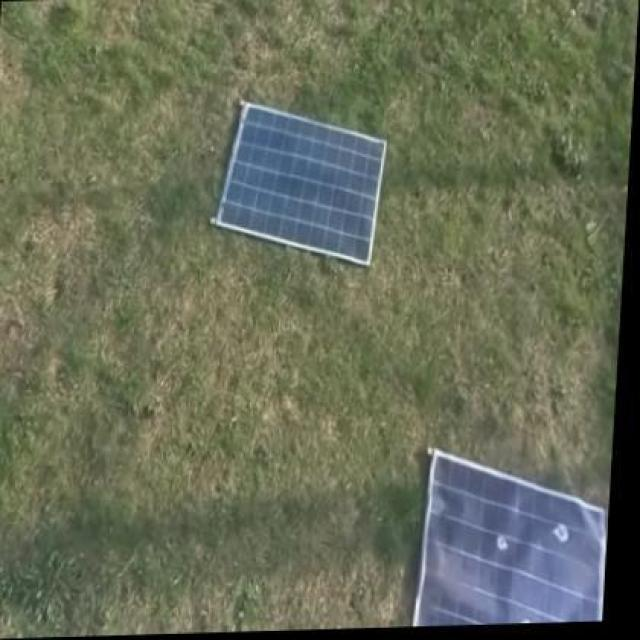soiled: (411, 450, 605, 624)
